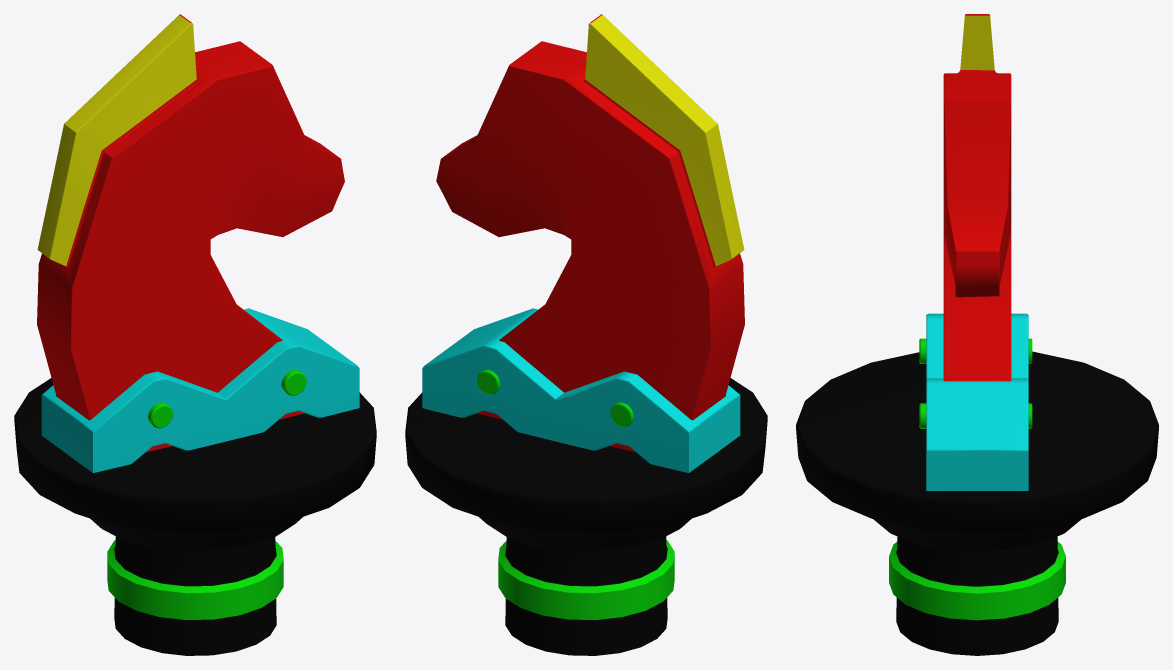
File: HorseTile.fbx
3 renders of one model, left to right at view 1: azimuth 30°, elevation 25°; view 2: azimuth 150°, elevation 25°; view 3: azimuth 270°, elevation 25°, orthographic.
Parts seen in each view (by area): view 1: HorseTile; view 2: HorseTile; view 3: HorseTile.
Part boxes in pixels (box(x1,y1,x2,y2)): HorseTile: box(14, 14, 376, 655); HorseTile: box(405, 14, 767, 655); HorseTile: box(796, 14, 1158, 655).
Bounding box in the file's own units: 1.11 × 2.04 × 1.11.
